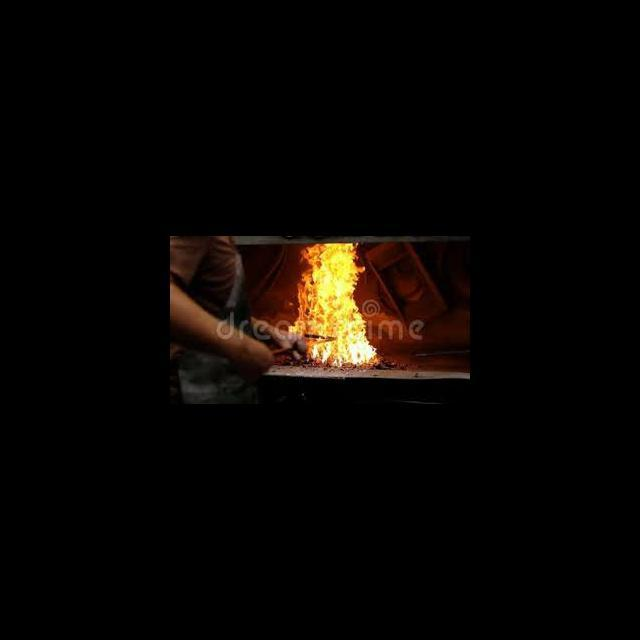Fire: (294, 241, 379, 368)
